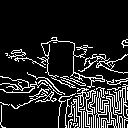cube: (41, 39, 82, 85)
